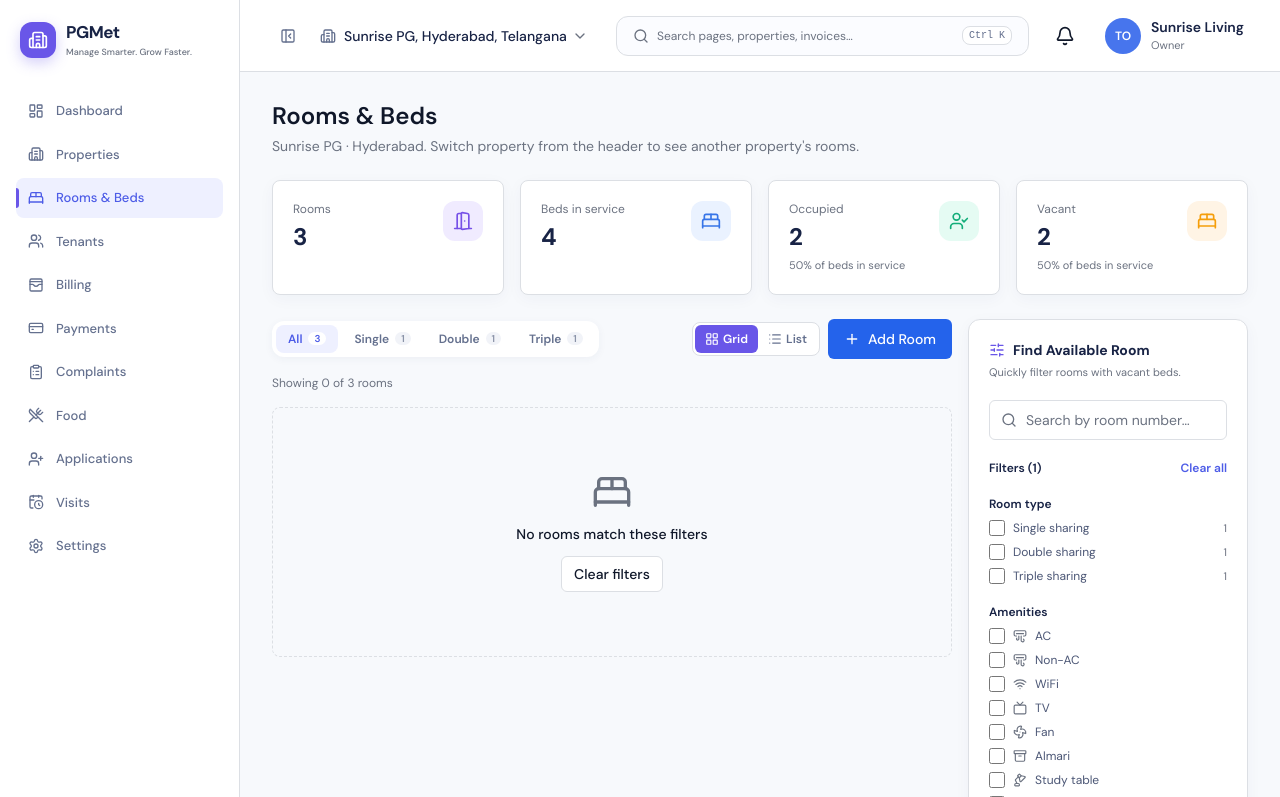
Rooms & Beds page › shows a filtered-empty state with a way out
The width and height of the screenshot is (1280, 797).
Expected: the text "No rooms match these filters" is shown, [516,524,708,544]
Click the button "Clear filters" at {"x": 612, "y": 574}, box [561,556,663,592]
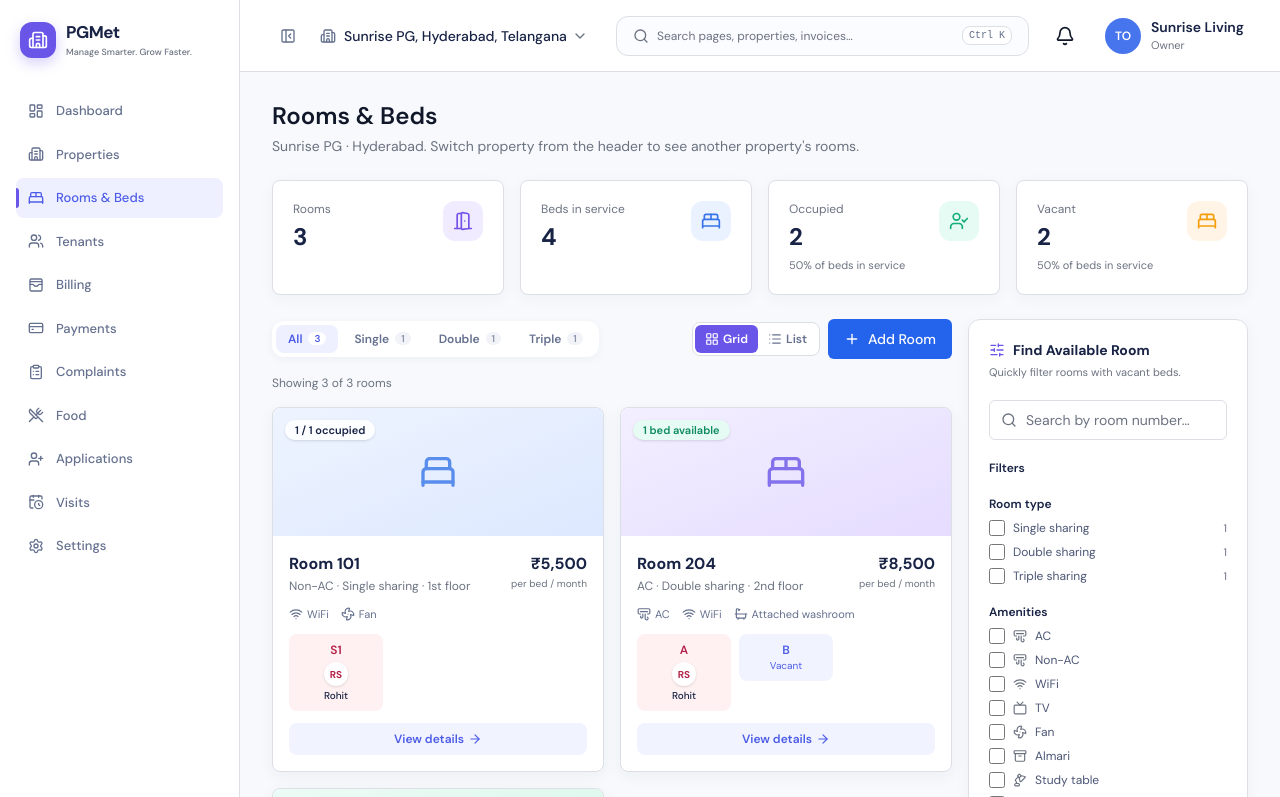
Expected: the heading "Room 204" is shown, [637,552,716,574]
